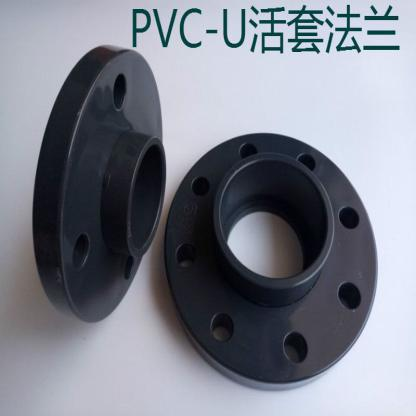FOD: (158, 129, 382, 394), (29, 41, 168, 328)
